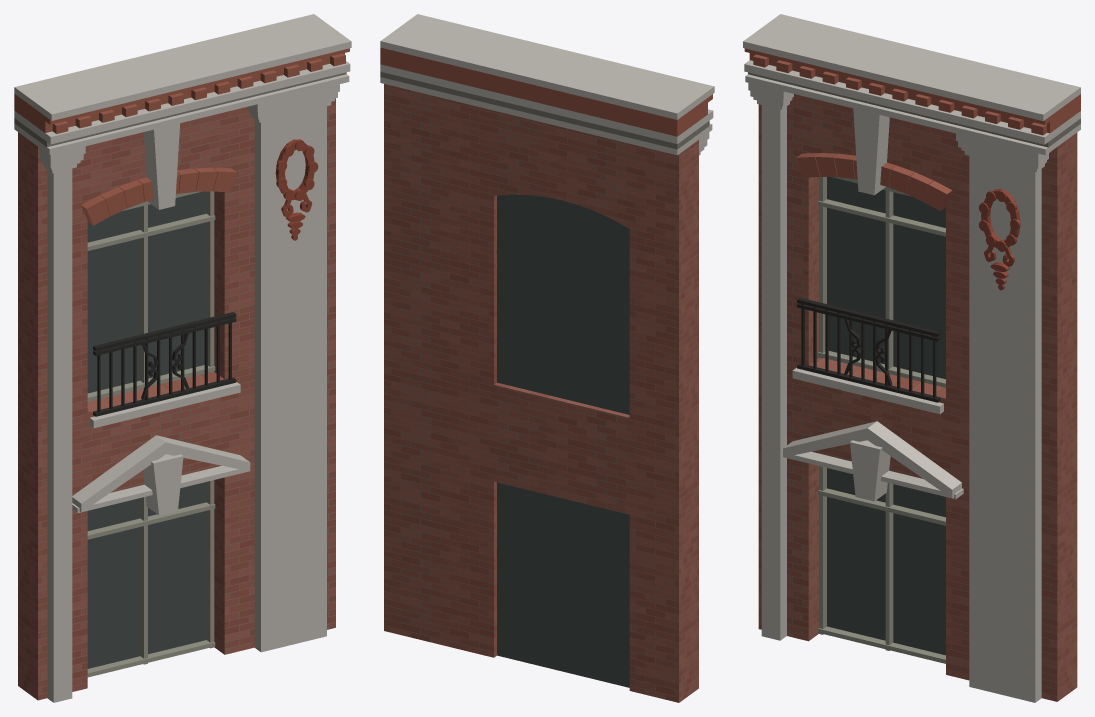
Rendered from huangpu-beijing-apartments-pilaster-garland-lod.glb.
3 renders of one model, left to right at view 1: azimuth 30°, elevation 25°; view 2: azimuth 150°, elevation 25°; view 3: azimuth 330°, elevation 25°, orthographic.
Parts seen in each view (by area): view 1: 北京公寓街面椭圆花饰壁柱与双层窗楣; view 2: 北京公寓街面椭圆花饰壁柱与双层窗楣; view 3: 北京公寓街面椭圆花饰壁柱与双层窗楣.
Boxes of the visible parts, x1,y1,x2,y2 form: 北京公寓街面椭圆花饰壁柱与双层窗楣: [14, 14, 351, 702]; 北京公寓街面椭圆花饰壁柱与双层窗楣: [380, 14, 714, 702]; 北京公寓街面椭圆花饰壁柱与双层窗楣: [743, 14, 1080, 702].
Bounding box in the file's own units: 3.37 × 6.41 × 0.728.
8 materials, 1 textured.
